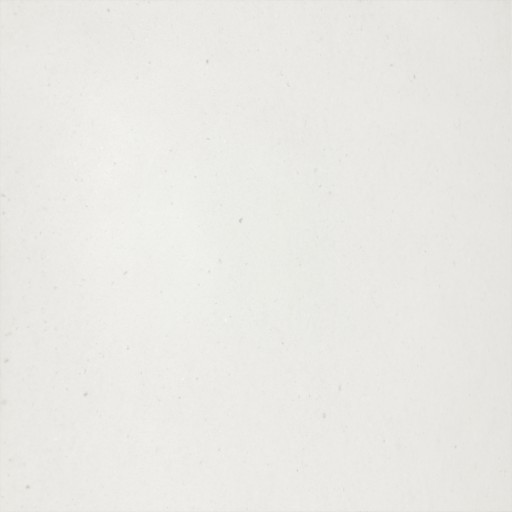lego: (219, 218, 294, 295)
